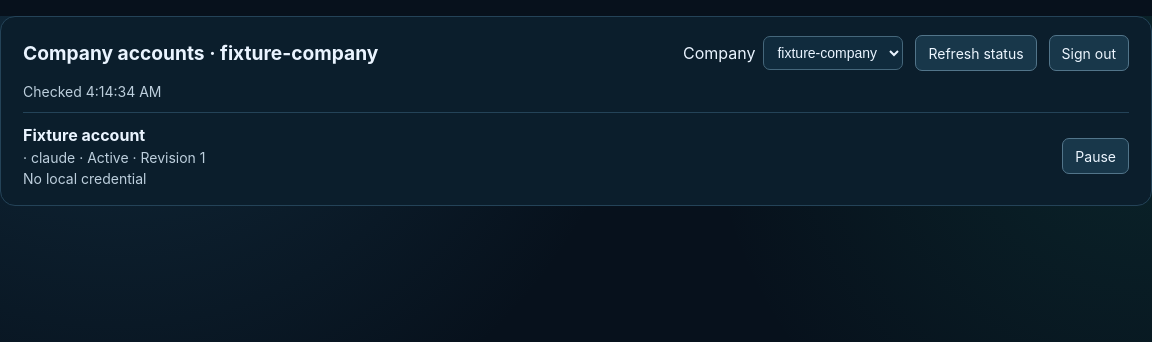
Test: company accounts › reports request_id_conflict and reloads the current status
Click the button "Pause" at [1096, 156], box [1062,138,1129,174]
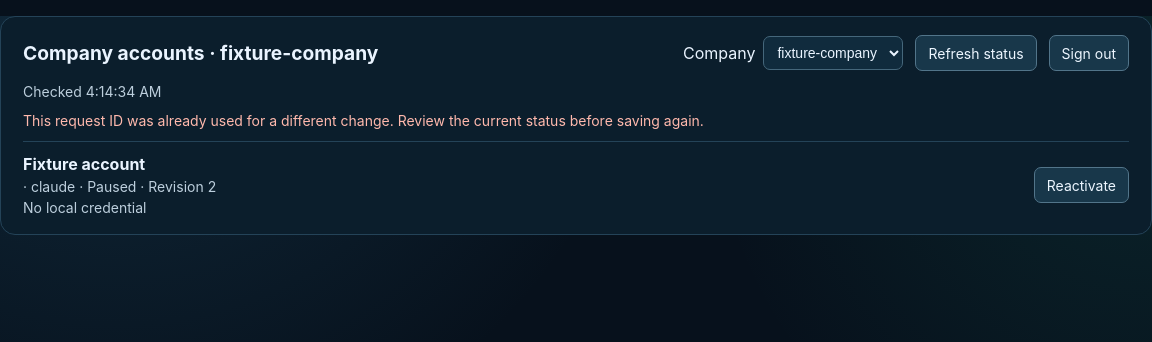
Expected: the button "Reactivate" is enabled, [1034,167,1129,203]
Expected: the message shows "This request ID was already used", [23,112,704,129]
Expected: the text "Paused" is shown, [87,178,136,195]
